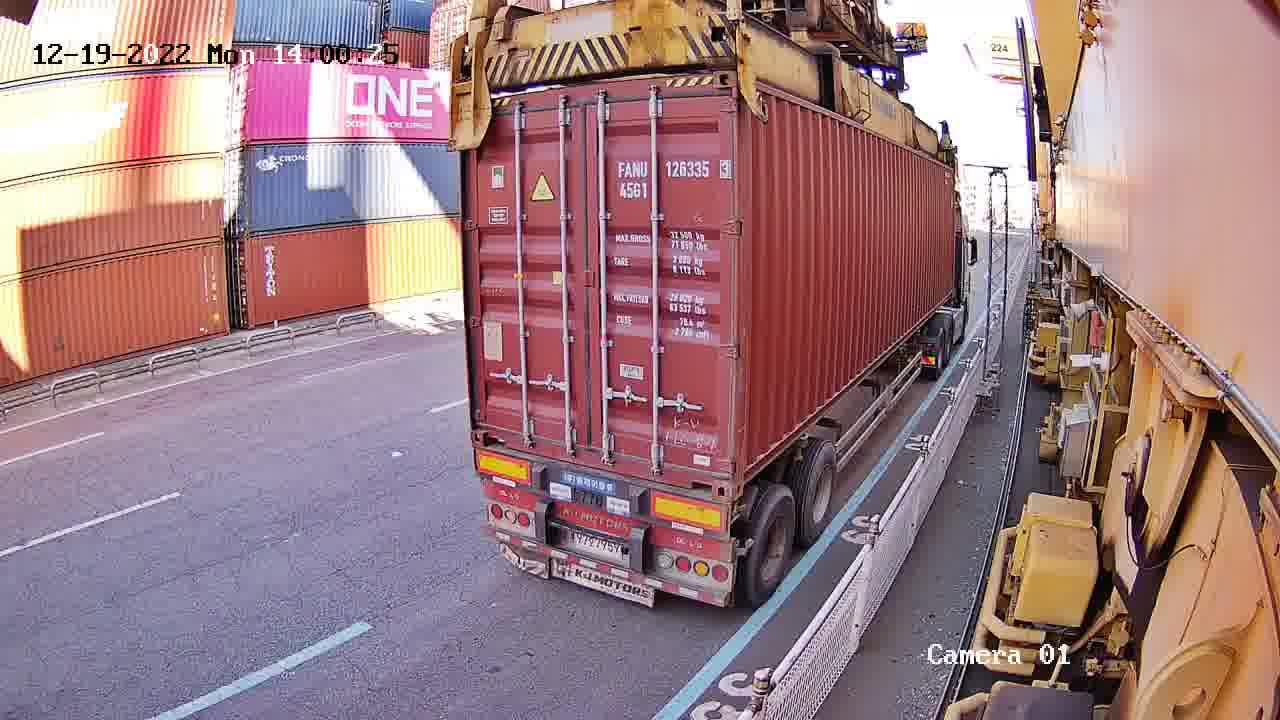Chassis: (473, 449, 727, 531)
Cone: (728, 496, 743, 525)
Hole_L: (730, 432, 756, 500), (469, 415, 502, 451)
Hole_R: (684, 448, 730, 501)
Tire: (747, 494, 796, 598), (800, 443, 839, 533)
